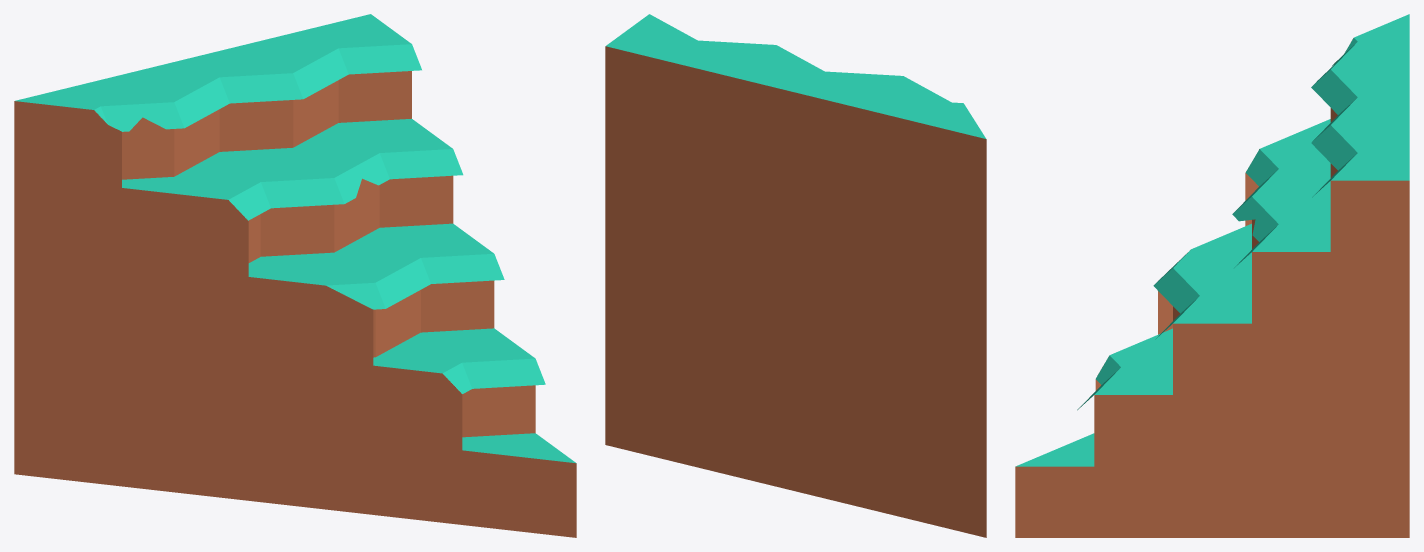
File: cliff_steps_rock_halfSW.fbx
The picture shows the model from 3 angles, left to right: view 1: azimuth 30°, elevation 25°; view 2: azimuth 150°, elevation 25°; view 3: azimuth 270°, elevation 25°; orthographic projection. The views are drawn at different scales.
Parts seen in each view (by area): view 1: cliff_steps_rock; view 2: cliff_steps_rock; view 3: cliff_steps_rock.
Boxes of the visible parts, x1=… form: cliff_steps_rock: x1=14, y1=14, x2=576, y2=537; cliff_steps_rock: x1=605, y1=14, x2=986, y2=537; cliff_steps_rock: x1=1015, y1=14, x2=1409, y2=537.
Size of the model in its own units: 10 by 10 by 10.
